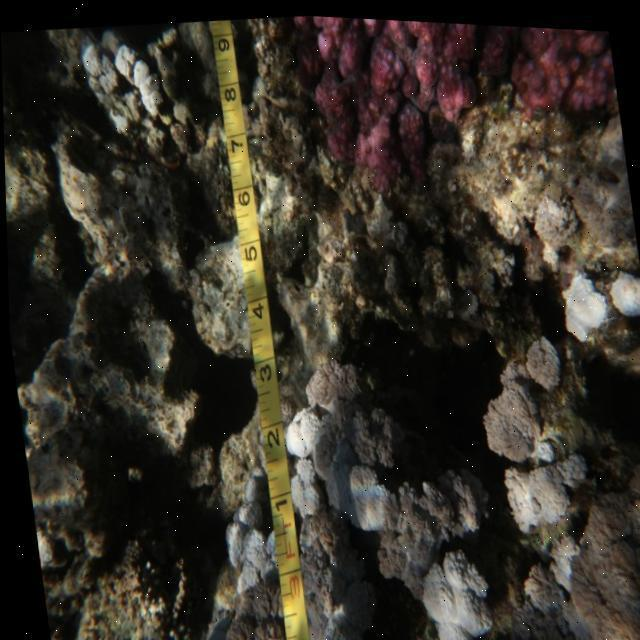Healthy Coral: (284, 12, 628, 206)
